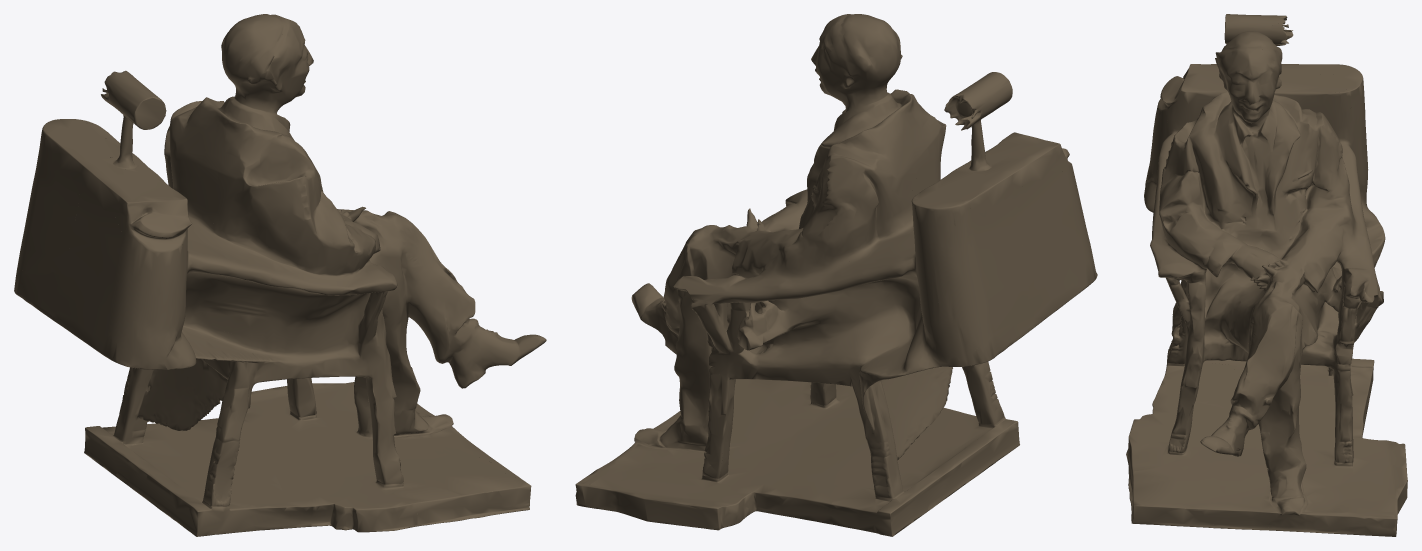
Rendered from niu-h31.glb.
3 renders of one model, left to right at view 1: azimuth 30°, elevation 25°; view 2: azimuth 150°, elevation 25°; view 3: azimuth 270°, elevation 25°, orthographic. The views are drawn at different scales.
Visible parts, largest first — view 1: tripo_node_29577416-d8e3-4d79-a23a-e74ecf3c1843; view 2: tripo_node_29577416-d8e3-4d79-a23a-e74ecf3c1843; view 3: tripo_node_29577416-d8e3-4d79-a23a-e74ecf3c1843.
Part boxes in pixels (x1,y1,x2,y2): tripo_node_29577416-d8e3-4d79-a23a-e74ecf3c1843: (14, 14, 546, 536); tripo_node_29577416-d8e3-4d79-a23a-e74ecf3c1843: (575, 14, 1097, 536); tripo_node_29577416-d8e3-4d79-a23a-e74ecf3c1843: (1126, 14, 1407, 536).
Size of the model in its own units: 1.57 by 1.62 by 0.9973.
